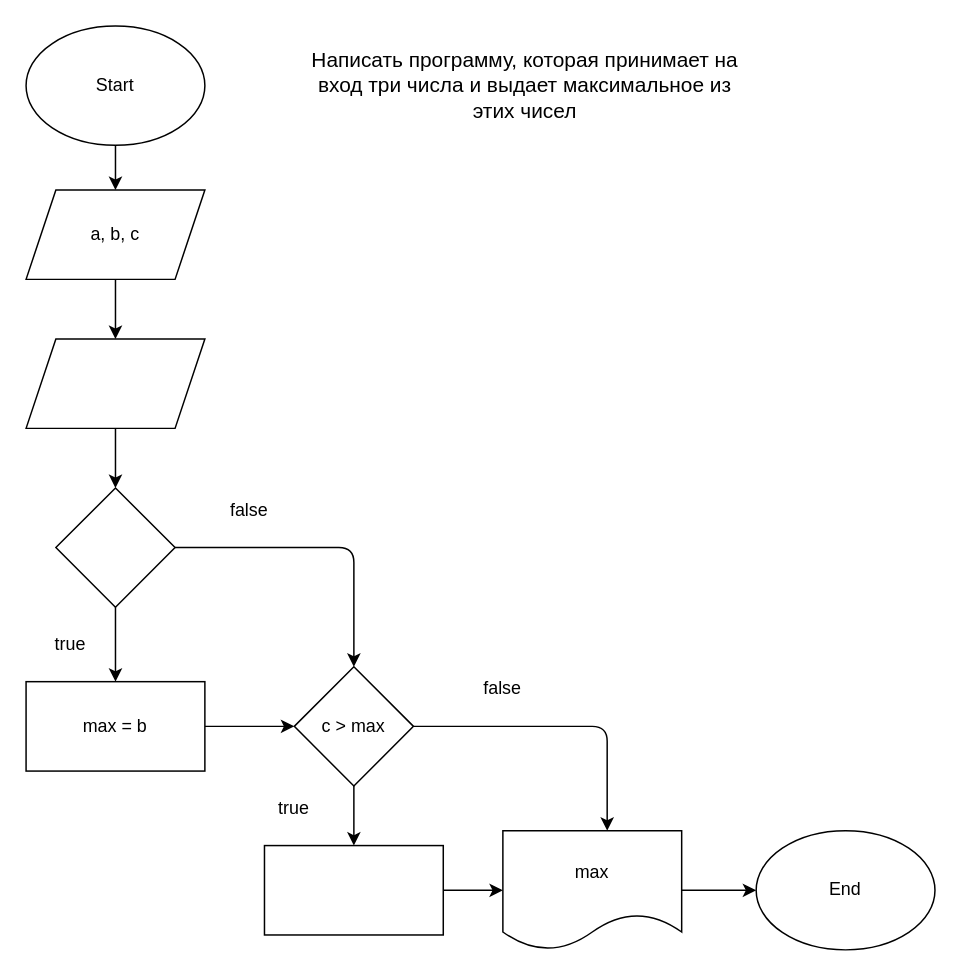
This 961x976 diagram has some shape labels left out. The centre of each missing label's shape, as x and y in pixels:
"b > max" belongs at [114,546].
"max = a" belongs at [115,382].
"max = c" belongs at [353,889].
